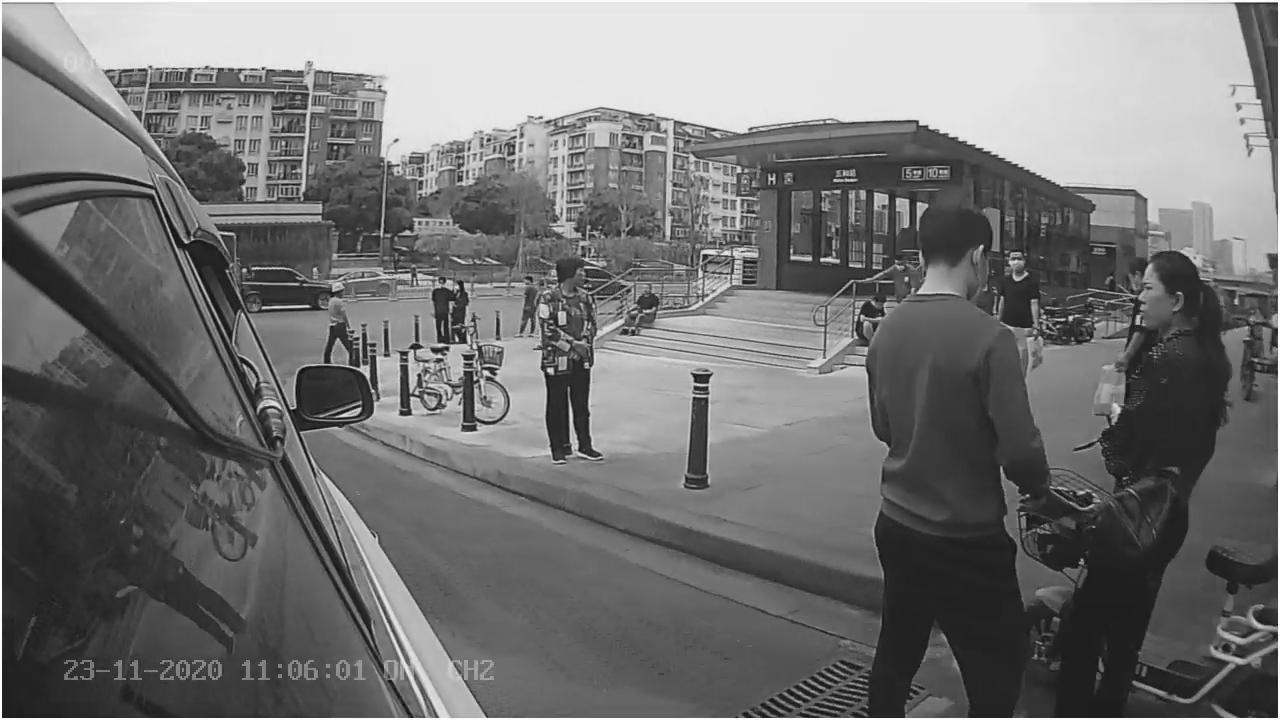person: (527, 251, 608, 469)
